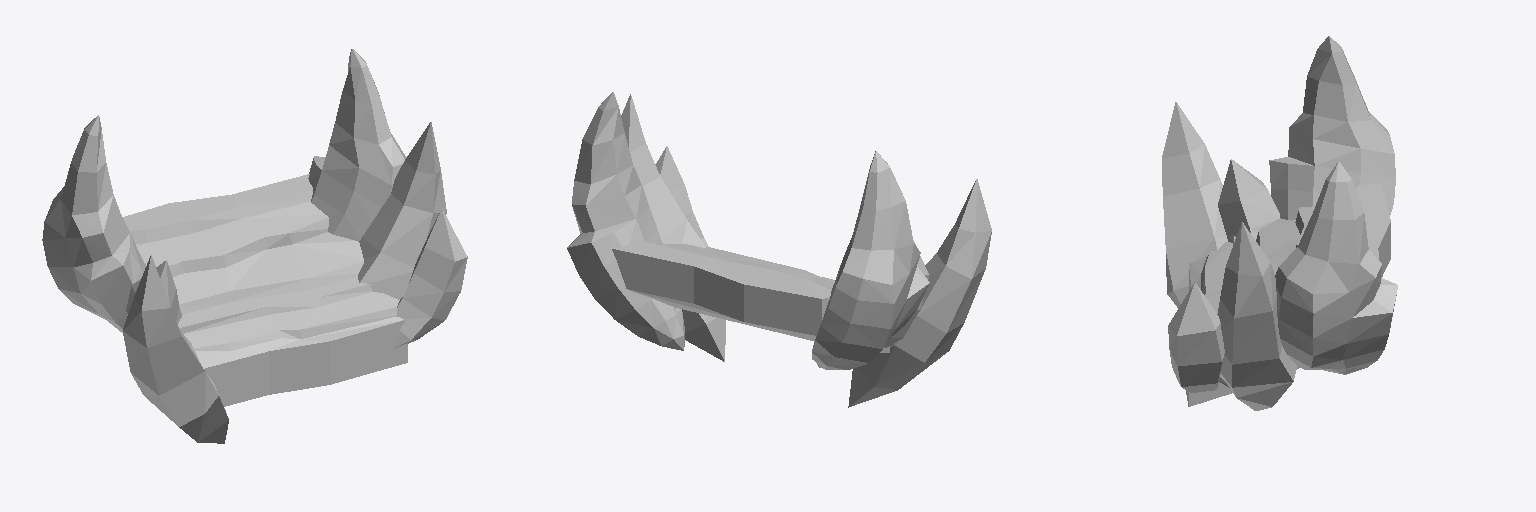
File: stair_01.obj
3 renders of one model, left to right at view 1: azimuth 30°, elevation 25°; view 2: azimuth 150°, elevation 25°; view 3: azimuth 270°, elevation 25°, orthographic.
Visible parts, largest first — view 1: stair_01; view 2: stair_01; view 3: stair_01.
Part boxes in pixels (x1,y1,x2,y2): stair_01: (42, 49, 467, 443); stair_01: (567, 92, 991, 407); stair_01: (1162, 36, 1397, 410).
Size of the model in its own units: 407 by 357 by 246.